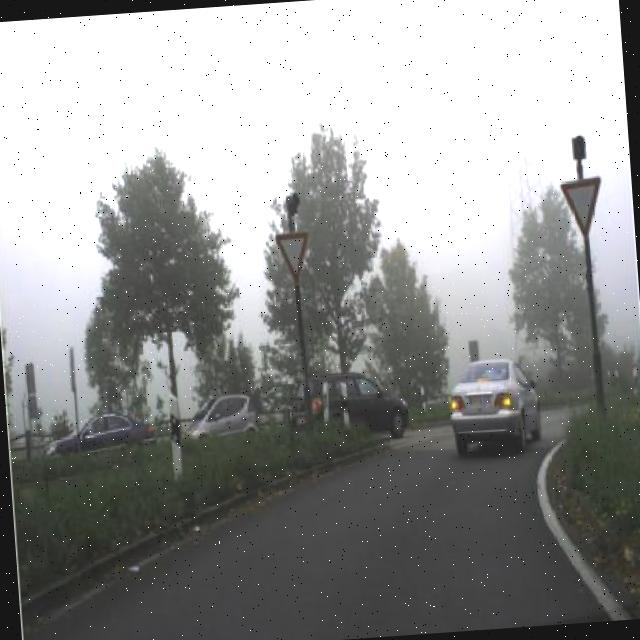Ustap pierwszenstwa: (558, 175, 605, 242), (272, 228, 313, 284)
